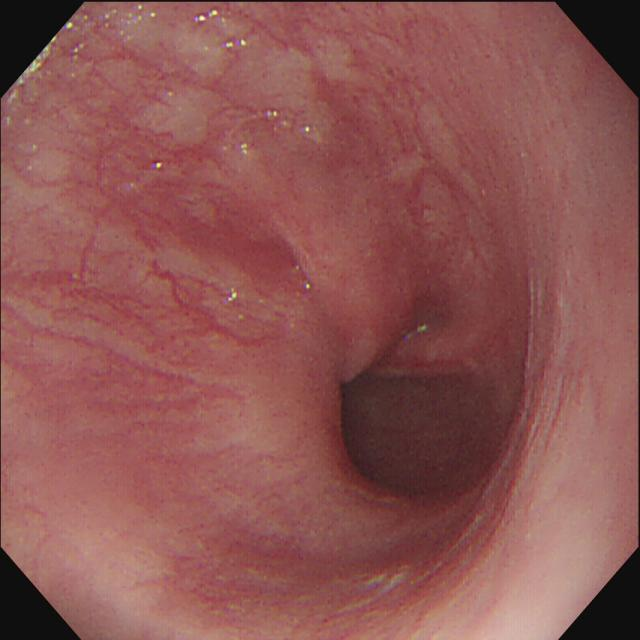E: (313, 349, 479, 501)
